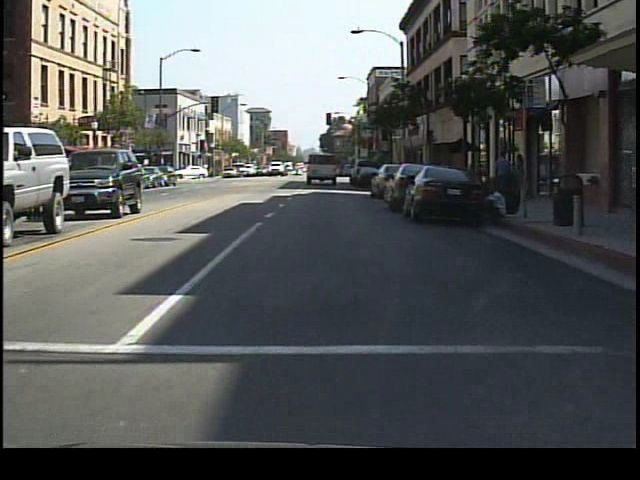person: (490, 144, 516, 208), (508, 151, 532, 206)
